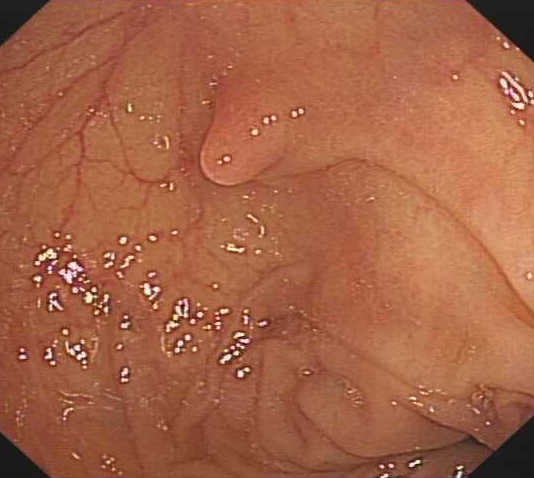adenoma: (197, 87, 289, 188)
